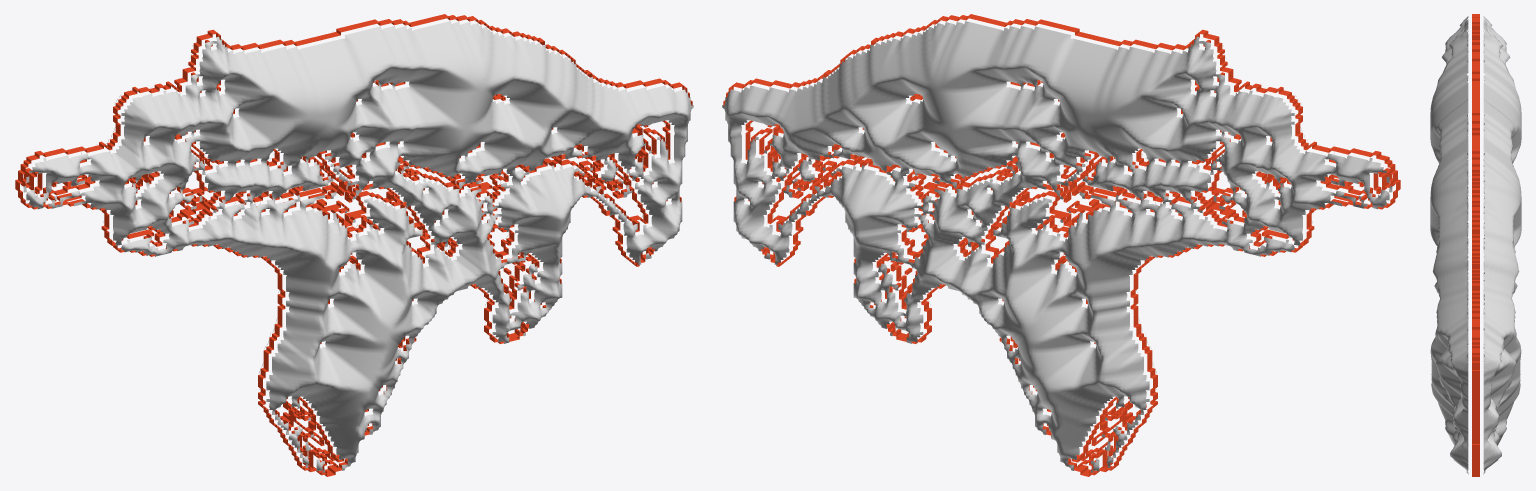
The model's file is codm-ak117-cordite-storm-relief.glb.
3 renders of one model, left to right at view 1: azimuth 30°, elevation 25°; view 2: azimuth 150°, elevation 25°; view 3: azimuth 270°, elevation 25°, orthographic. The views are drawn at different scales.
Visible parts, largest first — view 1: projected-skin, silhouette-edge; view 2: projected-skin, silhouette-edge; view 3: projected-skin, silhouette-edge.
Boxes of the visible parts, x1,y1,x2,y2 form: projected-skin: (23, 21, 693, 472); silhouette-edge: (15, 14, 692, 476); projected-skin: (722, 21, 1392, 472); silhouette-edge: (723, 14, 1400, 476); projected-skin: (1430, 16, 1521, 474); silhouette-edge: (1472, 14, 1479, 476).
Size of the model in its own units: 0.9451 by 0.6314 by 0.132.
